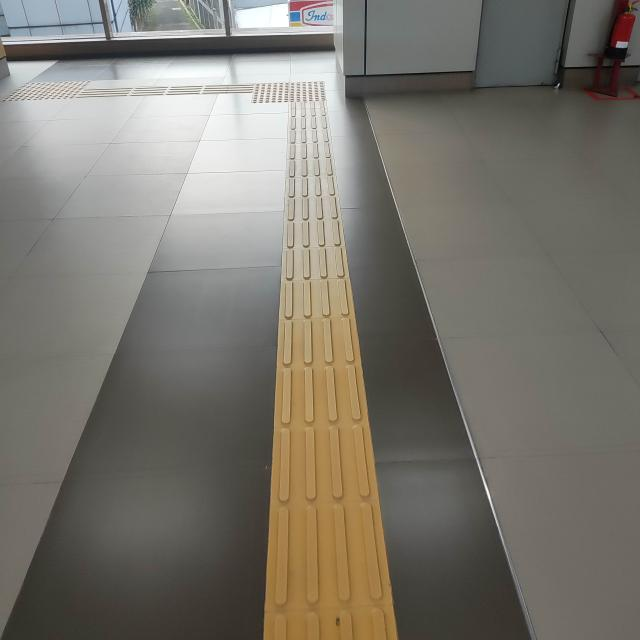kiri: (190, 70, 348, 124)
